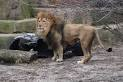lion: (36, 12, 114, 66)
